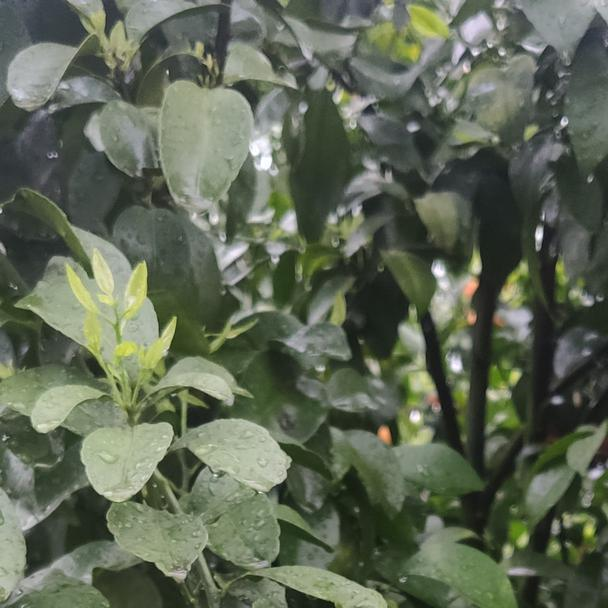shoot: (67, 253, 153, 404)
